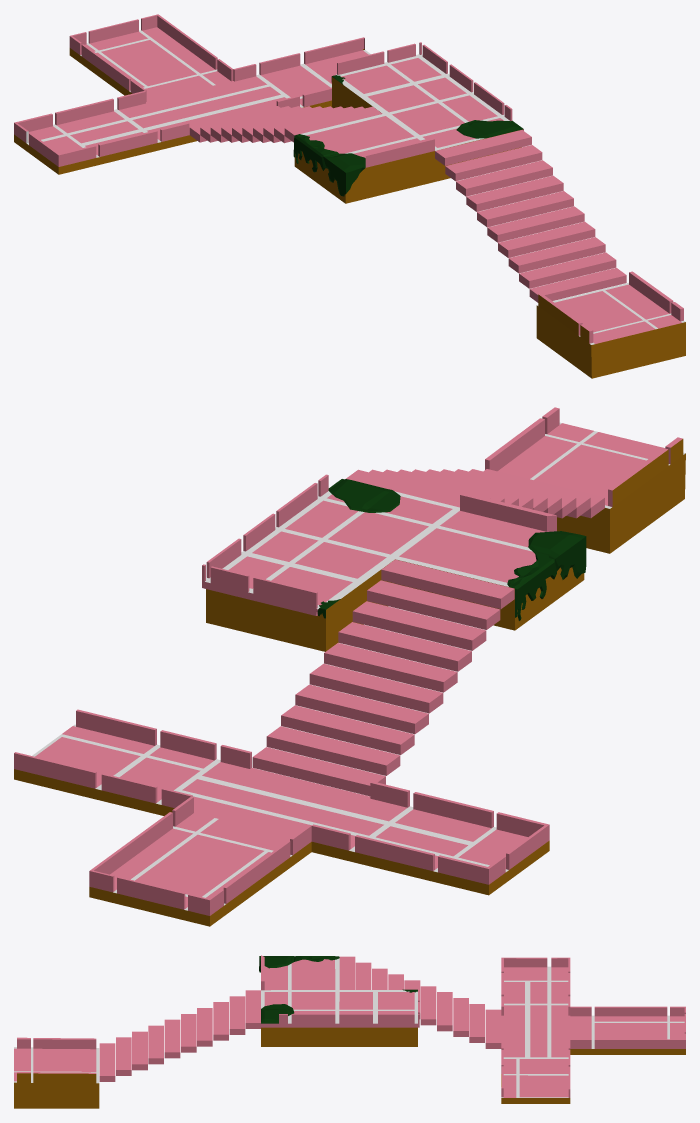
File: Work_Shop_Base island.fbx
3 renders of one model, top to bottom at view 1: azimuth 30°, elevation 25°; view 2: azimuth 150°, elevation 25°; view 3: azimuth 270°, elevation 25°, orthographic. The views are drawn at different scales.
Visible parts, largest first — view 1: Island; view 2: Island; view 3: Island.
Part boxes in pixels (x1,y1,x2,y2): Island: (14,14,685,378); Island: (14,407,685,926); Island: (14,955,685,1108).
Size of the model in its own units: 47.92 by 15.88 by 103.
